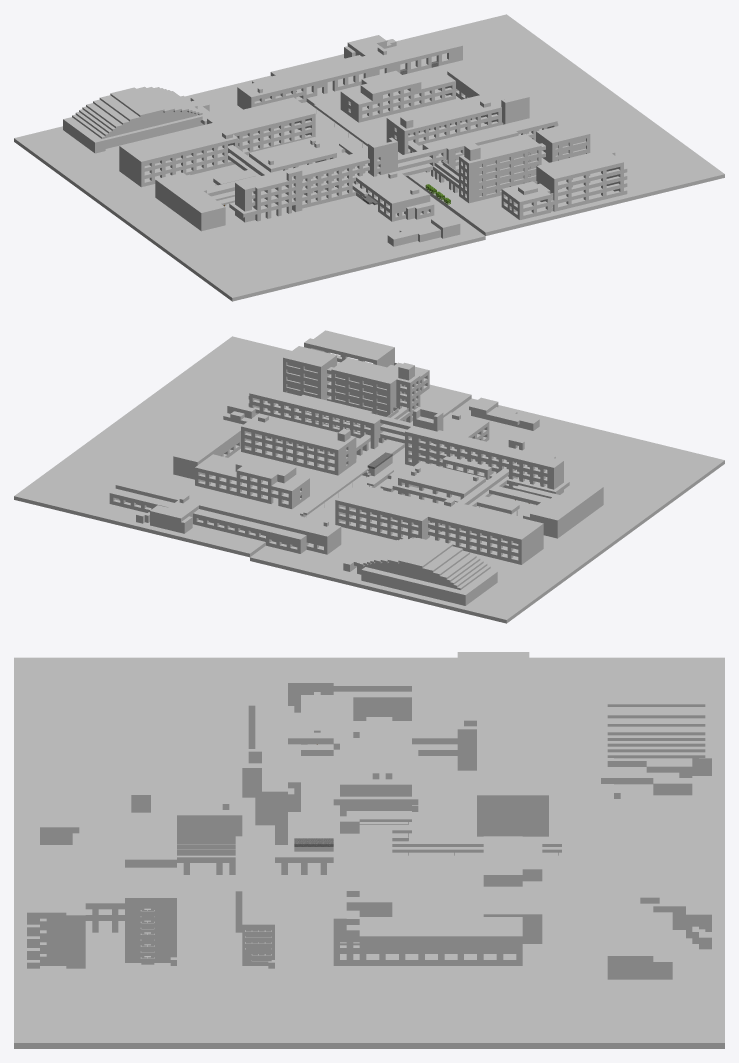
The model's file is KCTSchoolModel.obj.
3 views of the same model, one above another, from view 1: azimuth 30°, elevation 25°; view 2: azimuth 150°, elevation 25°; view 3: azimuth 270°, elevation 25° (orthographic). The views are drawn at different scales.
Visible parts, largest first — view 1: White_Concrete, Cyan_Terracotta, Stone_Slab, Double_Stone_Slab, Stripped_Birch_Wood, Gray_Stained_Glass_Pane; view 2: White_Concrete, Cyan_Terracotta, Stone_Slab, Double_Stone_Slab, Gray_Stained_Glass_Pane, Stripped_Birch_Wood, Brown_Stained_Glass; view 3: Cyan_Terracotta, White_Concrete, Stone_Slab, Double_Stone_Slab, Iron_Bars, Light_Stained_Glass, Light_Terracotta, Brown_Stained_Glass.
Part boxes in pixels (bbox=[...]): White_Concrete: bbox=[63, 34, 627, 246]; Cyan_Terracotta: bbox=[14, 14, 724, 301]; Stone_Slab: bbox=[72, 86, 377, 204]; Double_Stone_Slab: bbox=[81, 50, 459, 131]; Stripped_Birch_Wood: bbox=[105, 111, 197, 137]; Gray_Stained_Glass_Pane: bbox=[479, 138, 585, 196]; White_Concrete: bbox=[109, 330, 603, 605]; Cyan_Terracotta: bbox=[14, 336, 724, 623]; Stone_Slab: bbox=[300, 452, 559, 589]; Double_Stone_Slab: bbox=[369, 539, 481, 582]; Gray_Stained_Glass_Pane: bbox=[287, 362, 406, 416]; Stripped_Birch_Wood: bbox=[365, 562, 456, 588]; Brown_Stained_Glass: bbox=[489, 485, 546, 504]; Cyan_Terracotta: bbox=[14, 657, 724, 1048]; White_Concrete: bbox=[27, 652, 711, 979]; Stone_Slab: bbox=[294, 674, 705, 852]; Double_Stone_Slab: bbox=[614, 674, 698, 746]; Iron_Bars: bbox=[140, 822, 558, 964]; Light_Stained_Glass: bbox=[601, 767, 679, 783]; Light_Terracotta: bbox=[40, 813, 79, 833]; Brown_Stained_Glass: bbox=[333, 697, 353, 732].
Bounding box in the file's own units: 142 × 16 × 109.
